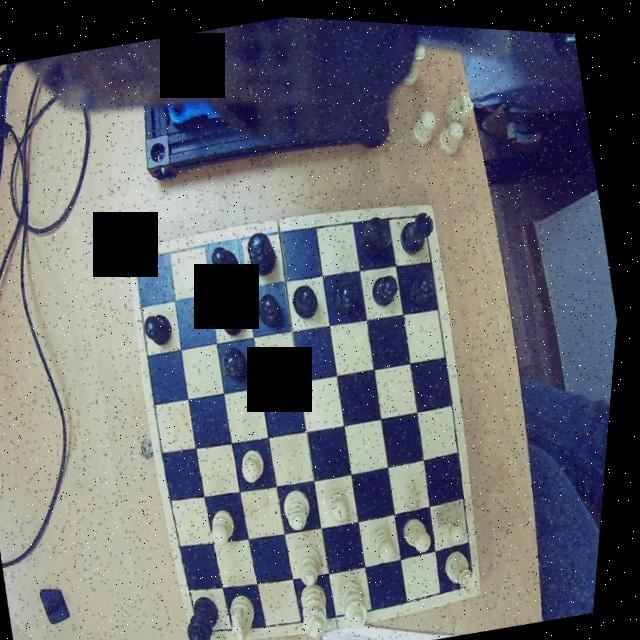chess-table-corners: (131, 245, 159, 274), (410, 196, 438, 224), (470, 560, 492, 590), (202, 614, 226, 640)
